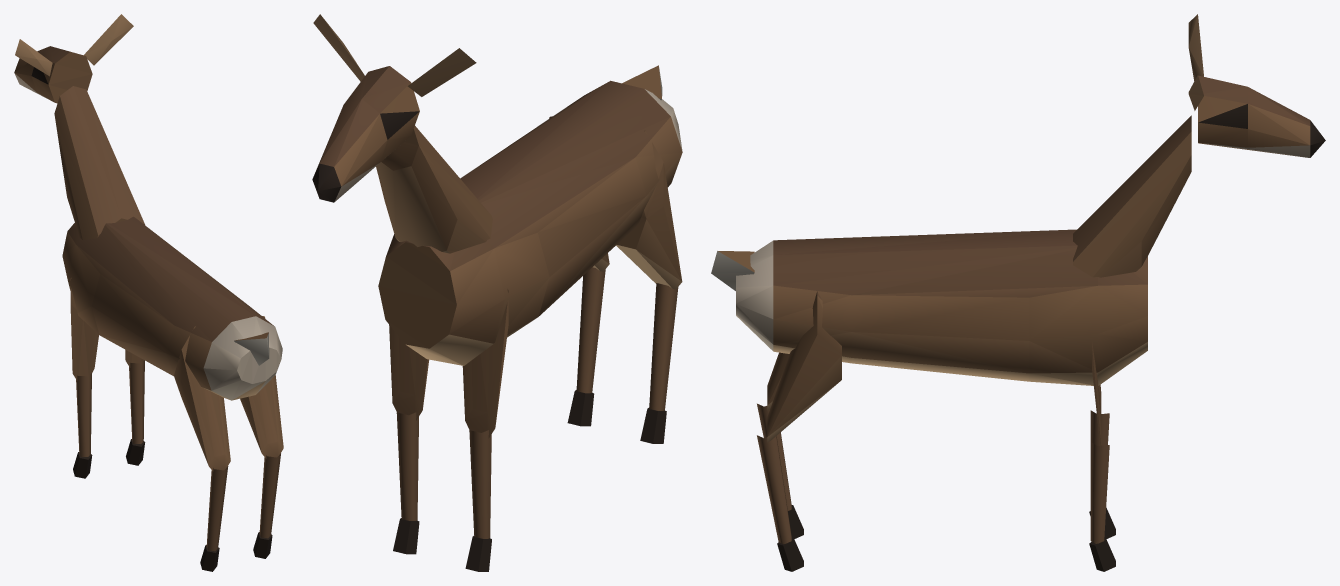
Rendered from deer_doe.glb.
The picture shows the model from 3 angles, left to right: view 1: azimuth 30°, elevation 25°; view 2: azimuth 150°, elevation 25°; view 3: azimuth 270°, elevation 25°; orthographic projection. The views are drawn at different scales.
Parts seen in each view (by area): view 1: Body, Neck, LegRL, LegRR, LegFL, LegFR; view 2: Body, Neck, LegRL, LegFL, LegFR, LegRR; view 3: Body, Neck, LegRR, LegFR, LegRL, LegFL.
Boxes of the visible parts, box(x1,y1,x2,y2) form: Body: box(62, 216, 282, 400); Neck: box(14, 14, 144, 239); LegRL: box(174, 326, 230, 571); LegRR: box(240, 316, 283, 558); LegFL: box(70, 278, 98, 478); LegFR: box(125, 350, 145, 465); Body: box(378, 65, 682, 365); Neck: box(312, 14, 492, 253); LegRL: box(616, 130, 682, 443); LegFL: box(462, 289, 508, 571); LegFR: box(389, 325, 429, 554); LegRR: box(549, 116, 609, 426); Body: box(711, 229, 1147, 385); Neck: box(1073, 14, 1325, 277); LegRR: box(757, 291, 841, 571); LegFR: box(1089, 341, 1115, 571); LegRL: box(757, 352, 803, 538); LegFL: box(1089, 384, 1115, 538).
Size of the model in its own units: 0.5022 by 1.68 by 1.83.
